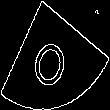O_NE: (31, 21, 79, 89)
